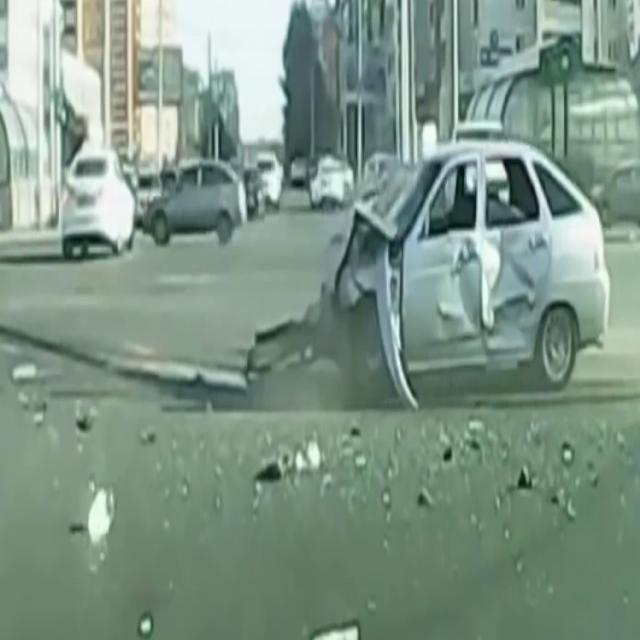accident: (291, 105, 614, 398)
